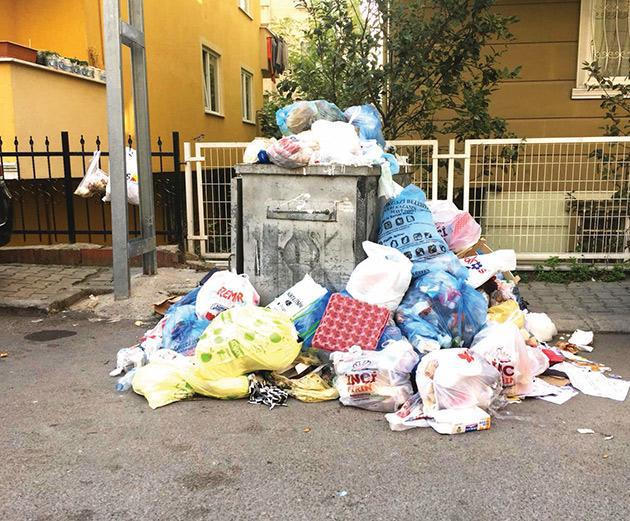Container: (235, 158, 413, 311), (229, 165, 385, 238)
Garbage: (229, 95, 422, 171), (376, 186, 482, 286), (278, 274, 353, 415), (132, 306, 218, 416), (423, 341, 514, 432), (338, 349, 415, 429), (193, 307, 299, 365), (484, 313, 569, 385), (384, 180, 446, 262), (550, 322, 619, 375), (359, 243, 409, 314), (343, 97, 410, 143), (299, 126, 372, 161), (276, 99, 345, 127), (244, 139, 303, 162)
